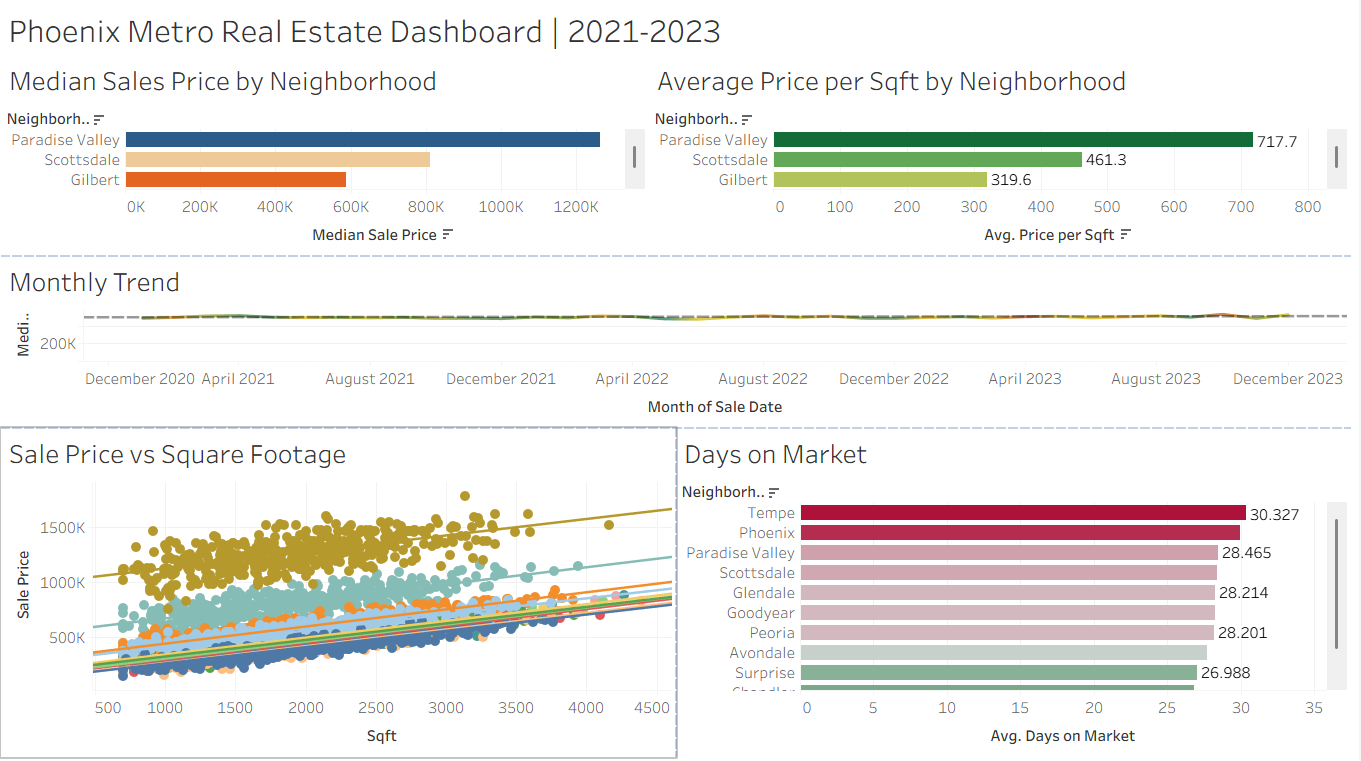

Layout of this report page (visuals, bound fields, positions):
{"tool":"tableau","page":{"name":"Phoenix Metro Real Estate Dashboard | 2021-2023","canvas":[1366,768],"ordinal":0},"visuals":[{"type":"title","box":[8,8,1350,50]},{"type":"worksheet","title":"Perice by Neighborhood","mark":"Automatic","rows":["Neighborhood"],"cols":["Sale_Price"],"box":[8,58,648,200.7]},{"type":"worksheet","title":"Price per Sqft","mark":"Automatic","rows":["Neighborhood"],"cols":["Price_per_Sqft"],"box":[656,58,702,200.7]},{"type":"worksheet","title":"Monthly Trend","mark":"Line","rows":["Sale_Price"],"cols":["Sale_Date"],"box":[8,258.7,1350,172.3]},{"type":"worksheet","title":"Price vs Sqft","mark":"Circle","rows":["Sale_Price"],"cols":["Sqft"],"box":[8,431,675,329]},{"type":"worksheet","title":"Days on Market","mark":"Bar","rows":["Neighborhood"],"cols":["Days_on_Market"],"box":[683,431,675,329]}]}

Visuals, with their boxes in screenshot pixels (x1, y1, x2, y2), scaled from the page's 1366x768 canvas onto the 1361x761 screenshot:
title: locate(8, 8, 1353, 57)
"Perice by Neighborhood" worksheet: locate(8, 57, 654, 256)
"Price per Sqft" worksheet: locate(654, 57, 1353, 256)
"Monthly Trend" worksheet (Line marks): locate(8, 256, 1353, 427)
"Price vs Sqft" worksheet (Circle marks): locate(8, 427, 680, 753)
"Days on Market" worksheet (Bar marks): locate(680, 427, 1353, 753)
